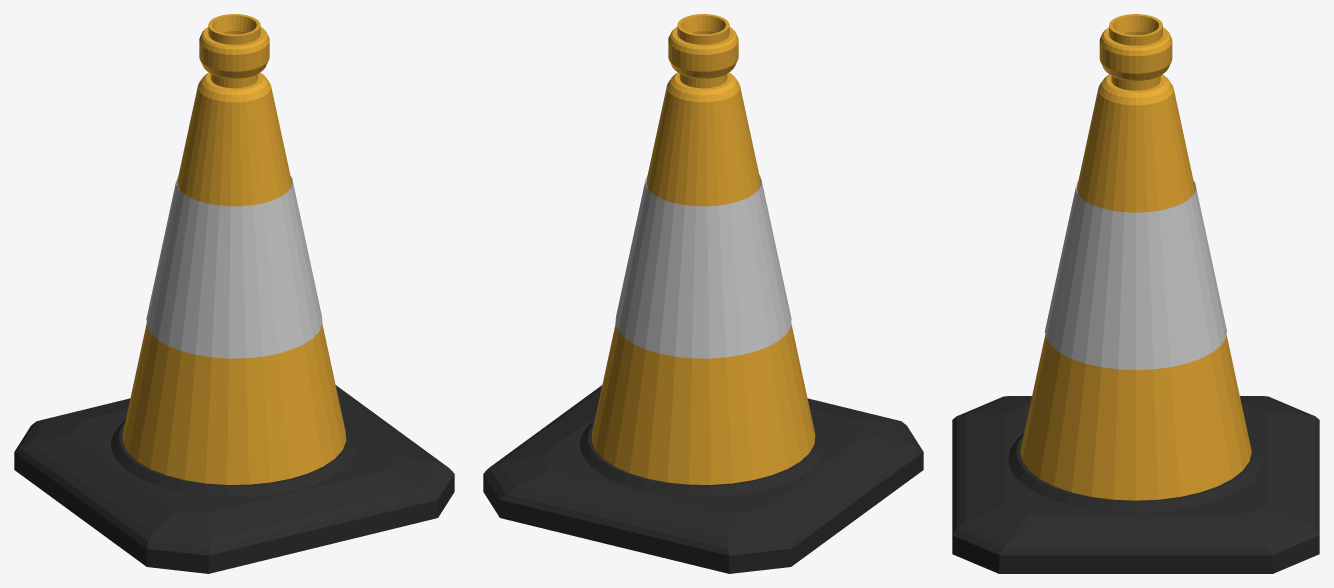
3 renders of one model, left to right at view 1: azimuth 30°, elevation 25°; view 2: azimuth 150°, elevation 25°; view 3: azimuth 270°, elevation 25°, orthographic. The views are drawn at different scales.
Visible parts, largest first — view 1: CONE; view 2: CONE; view 3: CONE.
Boxes of the visible parts, x1=… form: CONE: x1=14, y1=14, x2=454, y2=573; CONE: x1=483, y1=14, x2=923, y2=573; CONE: x1=952, y1=14, x2=1319, y2=573.
Bounding box in the file's own units: 740 × 1047 × 740.
